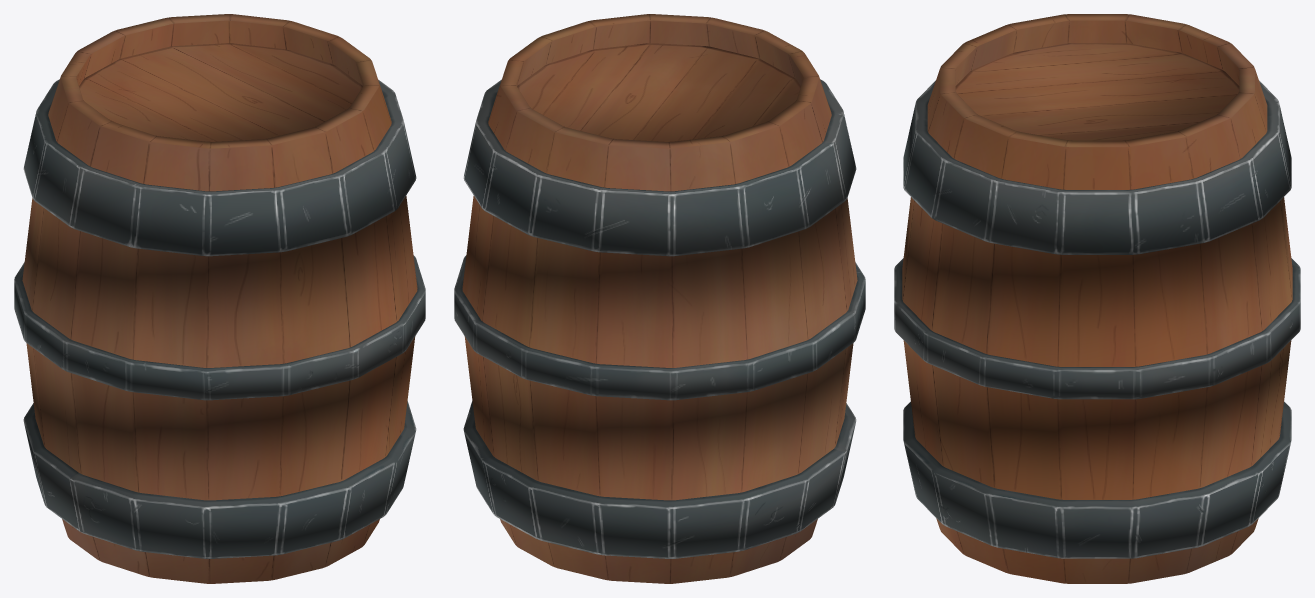
Rendered from barrel.glb.
The picture shows the model from 3 angles, left to right: view 1: azimuth 30°, elevation 25°; view 2: azimuth 150°, elevation 25°; view 3: azimuth 270°, elevation 25°; orthographic projection.
Parts seen in each view (by area): view 1: Barrel low; view 2: Barrel low; view 3: Barrel low.
Part boxes in pixels (x1,y1,x2,y2): Barrel low: [14, 14, 425, 583]; Barrel low: [454, 14, 865, 583]; Barrel low: [894, 14, 1300, 583].
Bounding box in the file's own units: 2.53 × 3 × 2.53.
Materials: 1 (1 with a texture image).
